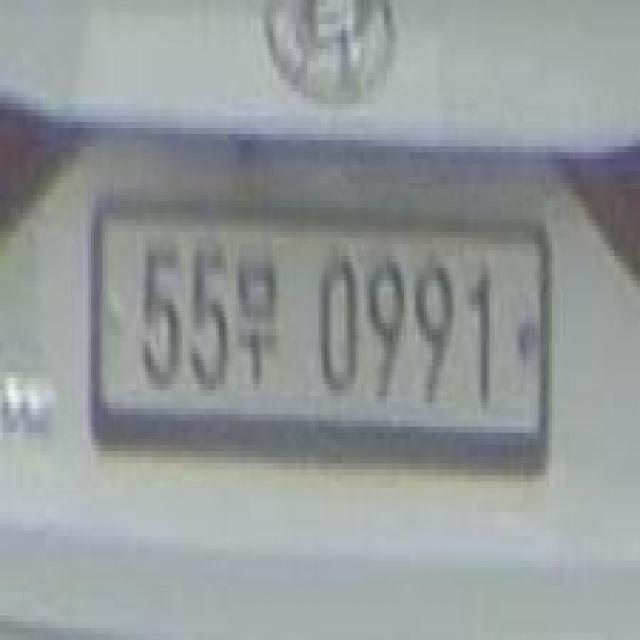0: (316, 234, 360, 398)
1: (465, 238, 500, 416)
5: (187, 233, 230, 394), (140, 235, 182, 389)
9: (411, 236, 459, 408), (364, 236, 408, 402)
license_plate: (79, 182, 557, 496)
mu: (234, 229, 281, 390)
